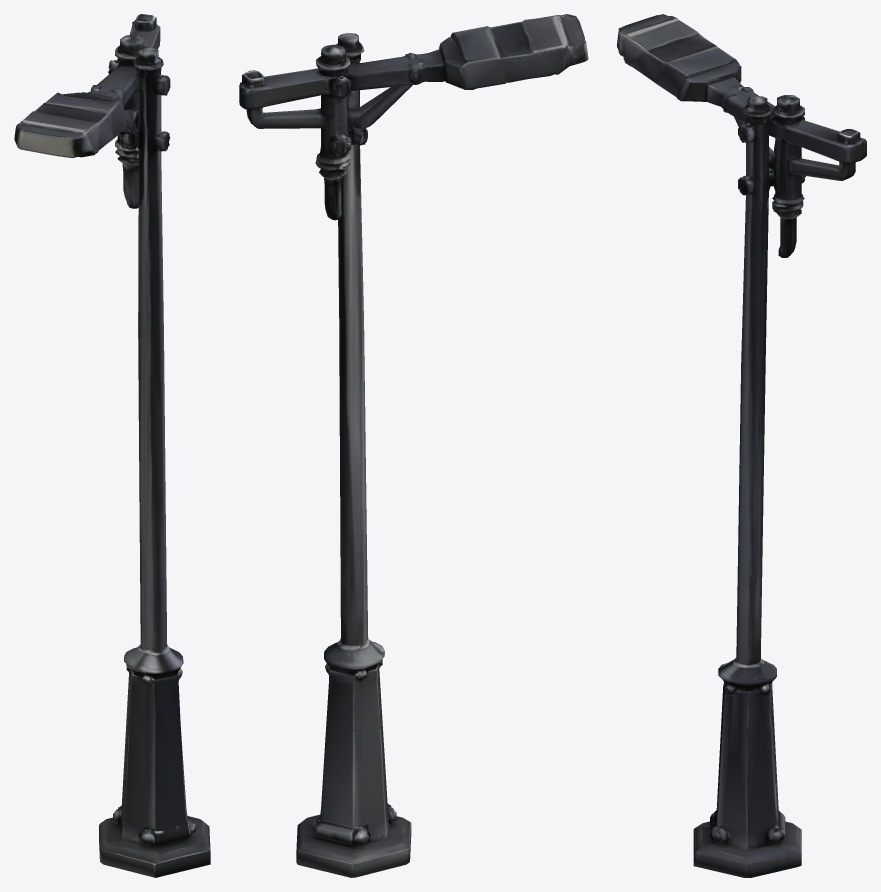
Rendered from lamp-post.glb.
3 views of the same model, side by side, from view 1: azimuth 30°, elevation 25°; view 2: azimuth 150°, elevation 25°; view 3: azimuth 270°, elevation 25° (orthographic). The views are drawn at different scales.
Parts seen in each view (by area): view 1: tripo_node_6c50909a-a5d5-4816-ad37-ddae63997a20; view 2: tripo_node_6c50909a-a5d5-4816-ad37-ddae63997a20; view 3: tripo_node_6c50909a-a5d5-4816-ad37-ddae63997a20.
Part boxes in pixels (x1=…): tripo_node_6c50909a-a5d5-4816-ad37-ddae63997a20: x1=14, y1=14, x2=210, y2=877; tripo_node_6c50909a-a5d5-4816-ad37-ddae63997a20: x1=239, y1=14, x2=588, y2=877; tripo_node_6c50909a-a5d5-4816-ad37-ddae63997a20: x1=617, y1=14, x2=866, y2=877.
Bounding box in the file's own units: 0.3145 × 0.998 × 0.2988.
1 material, 1 textured.
